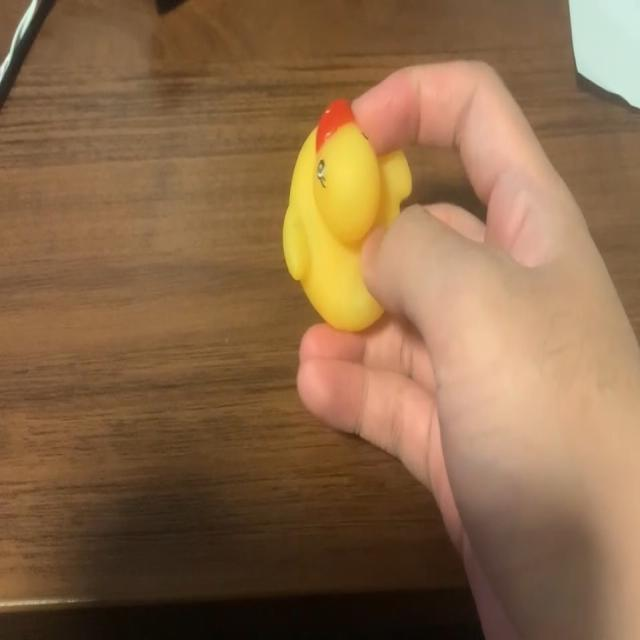rubber-duck: (282, 99, 410, 329)
